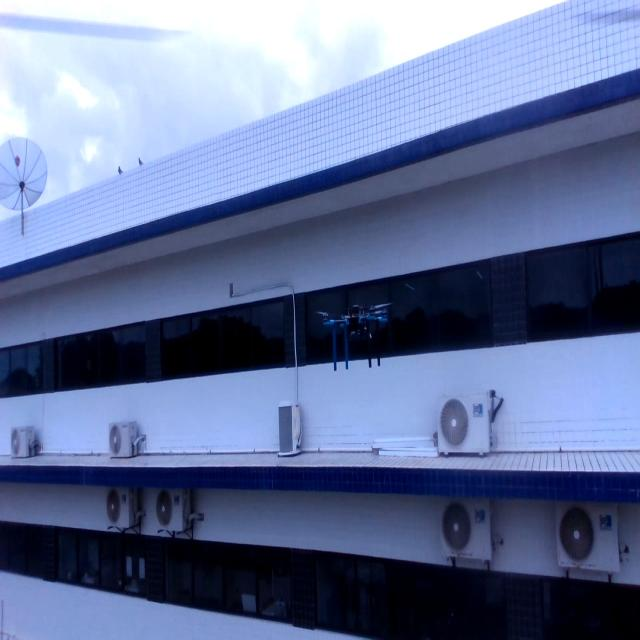-uav-: (311, 286, 396, 388)
